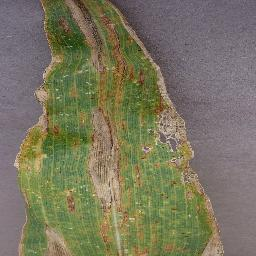Corn_Blight: (13, 155, 212, 211), (16, 212, 226, 256), (17, 103, 194, 155), (34, 66, 173, 102), (40, 0, 140, 38), (41, 39, 158, 64)
